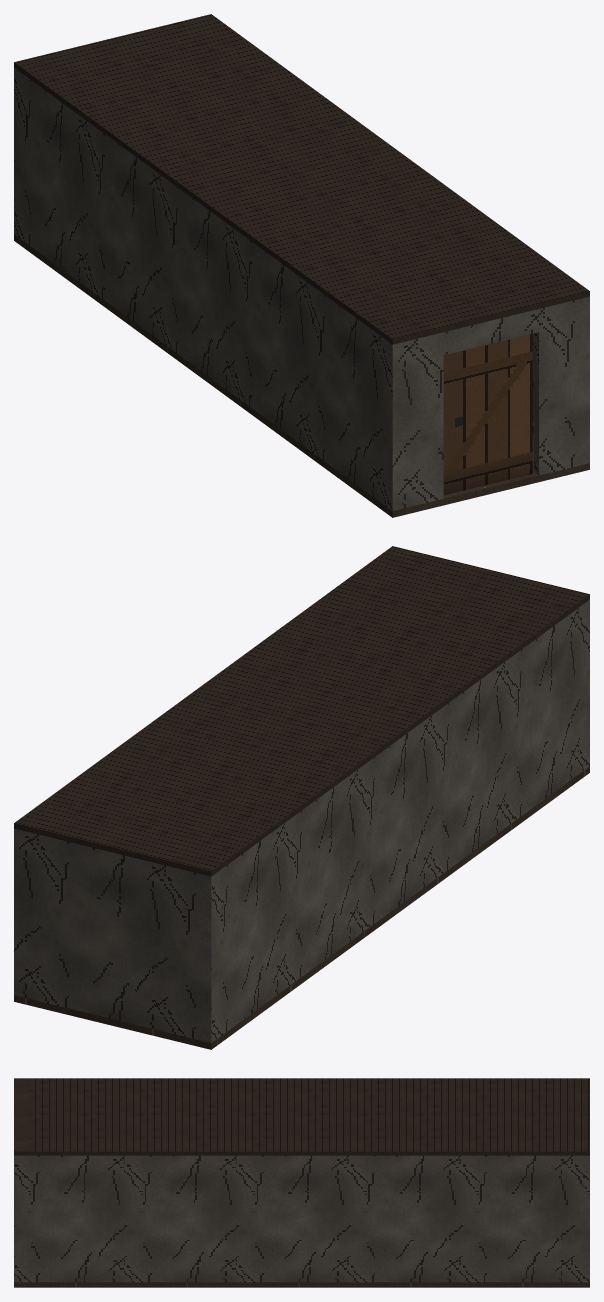
File: pedreira.glb
The picture shows the model from 3 angles, top to bottom: view 1: azimuth 30°, elevation 25°; view 2: azimuth 150°, elevation 25°; view 3: azimuth 270°, elevation 25°; orthographic projection. The views are drawn at different scales.
Visible parts, largest first — view 1: sala-col, teto-col; view 2: sala-col, teto-col; view 3: sala-col, teto-col.
Boxes of the visible parts, x1,y1,x2,y2 form: sala-col: [14, 68, 589, 517]; teto-col: [14, 14, 589, 344]; sala-col: [14, 600, 589, 1049]; teto-col: [14, 546, 589, 876]; sala-col: [14, 1155, 589, 1287]; teto-col: [14, 1078, 589, 1155].
Bounding box in the file's own units: 3.1 × 2.68 × 10.3.
9 materials, 9 textured.
